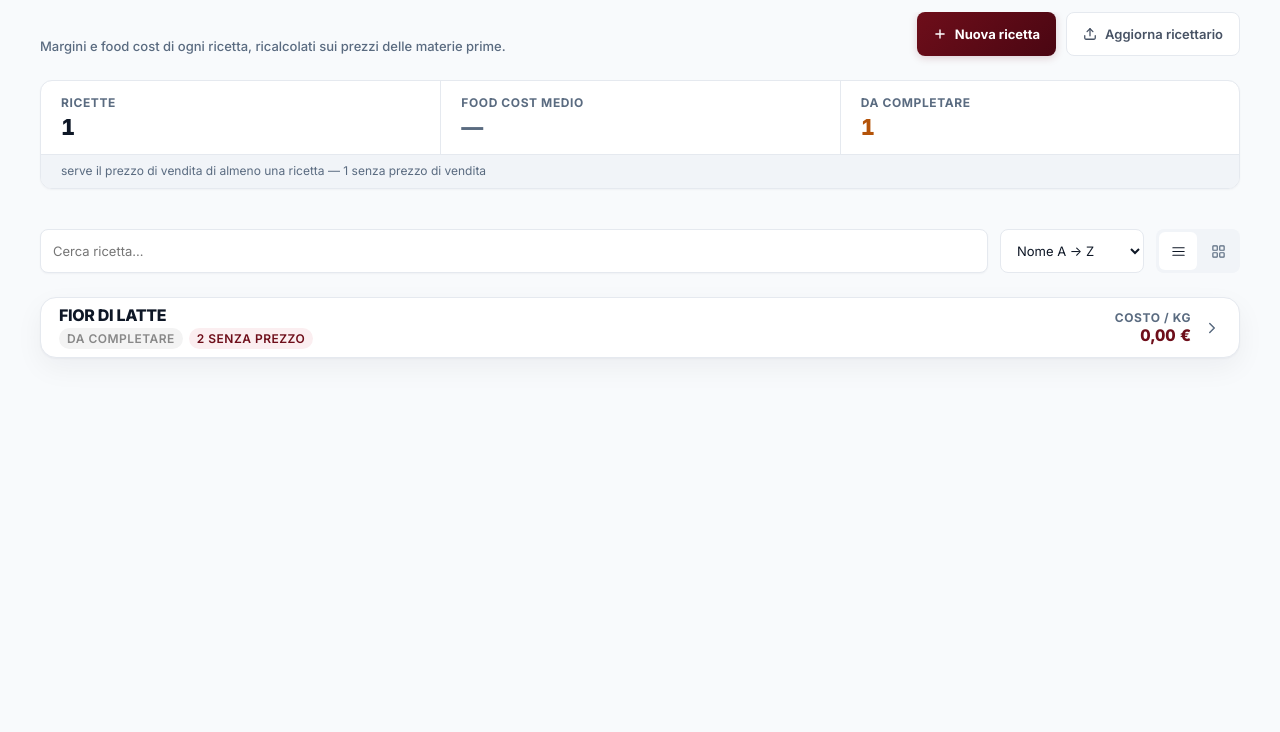
Test: I numeri non stanno più nell’intestazione › il pannello «Conto al kg» esiste ed è dove sono finiti
Click the button "FIOR DI LATTE Da completare 2 senza prezzo Costo / kg 0,00 €". click: (113, 315)
box: [40,297,1240,358]
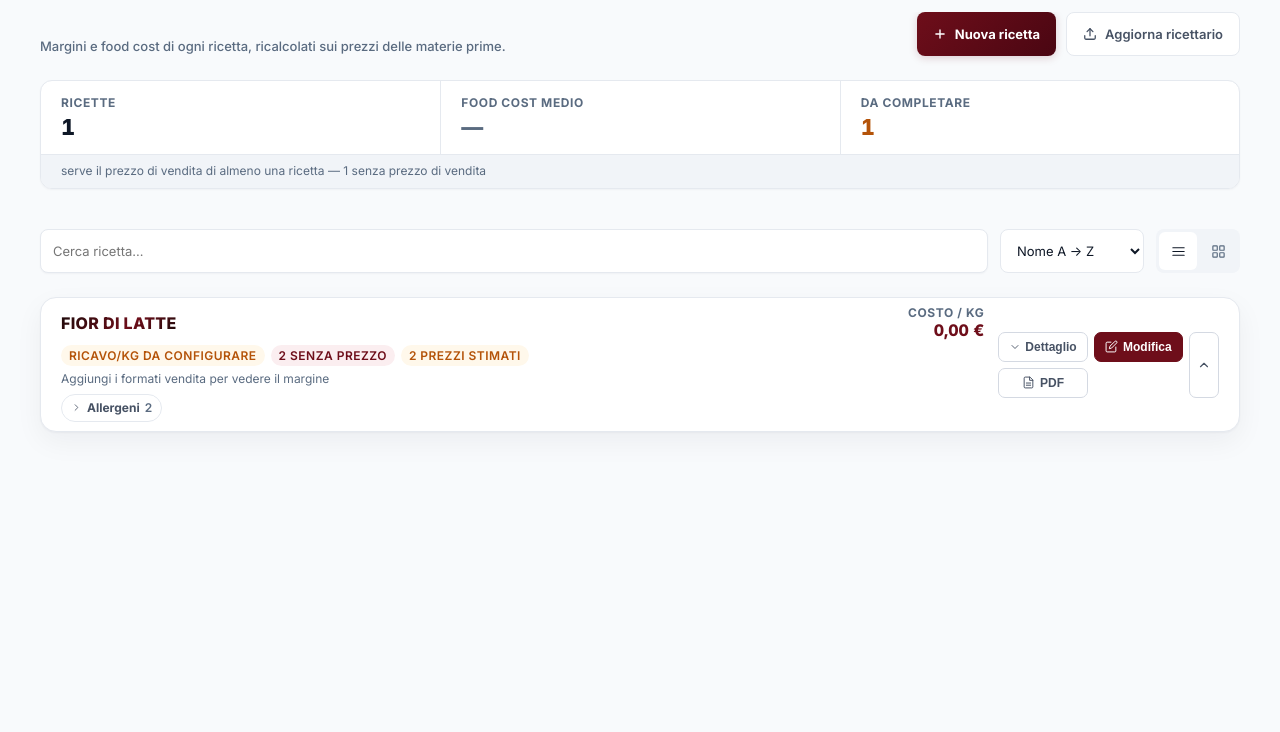
Click the button "Dettaglio". click: (1043, 347)
box: [998,332,1088,362]
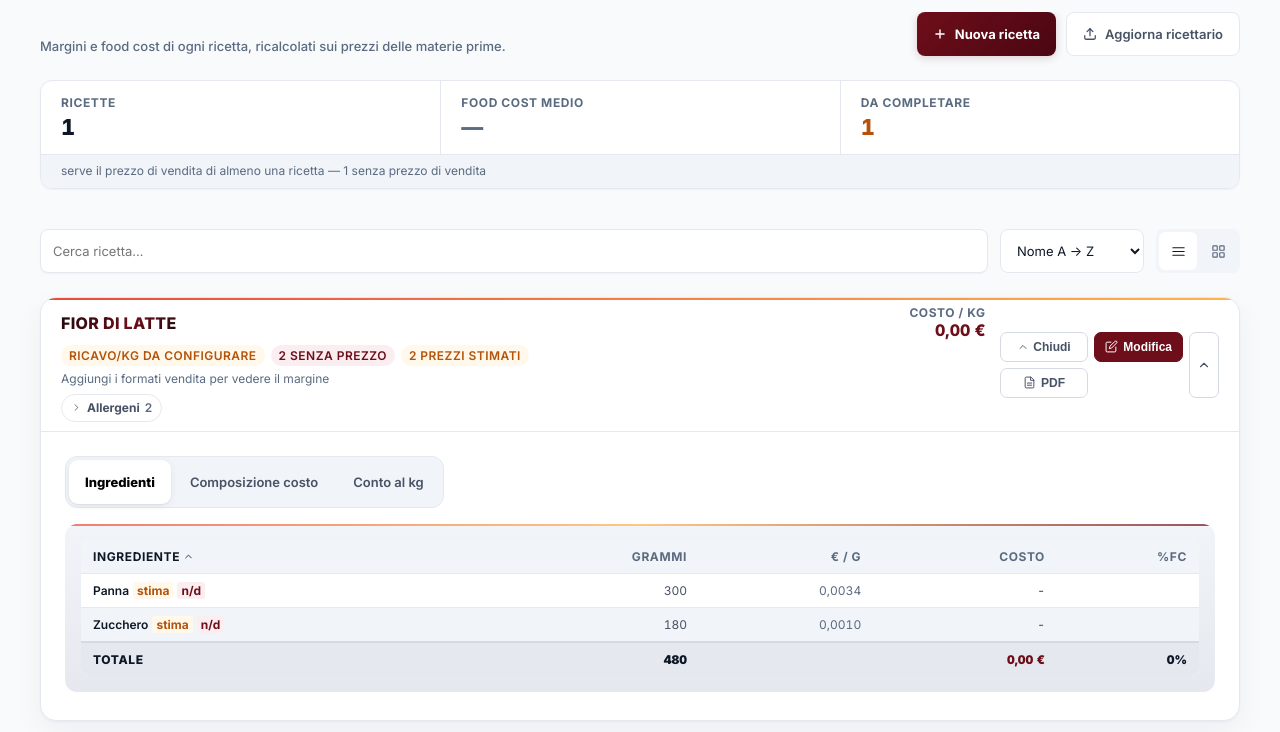
Click the button "Conto al kg". click: (389, 482)
box: [337,460,440,504]
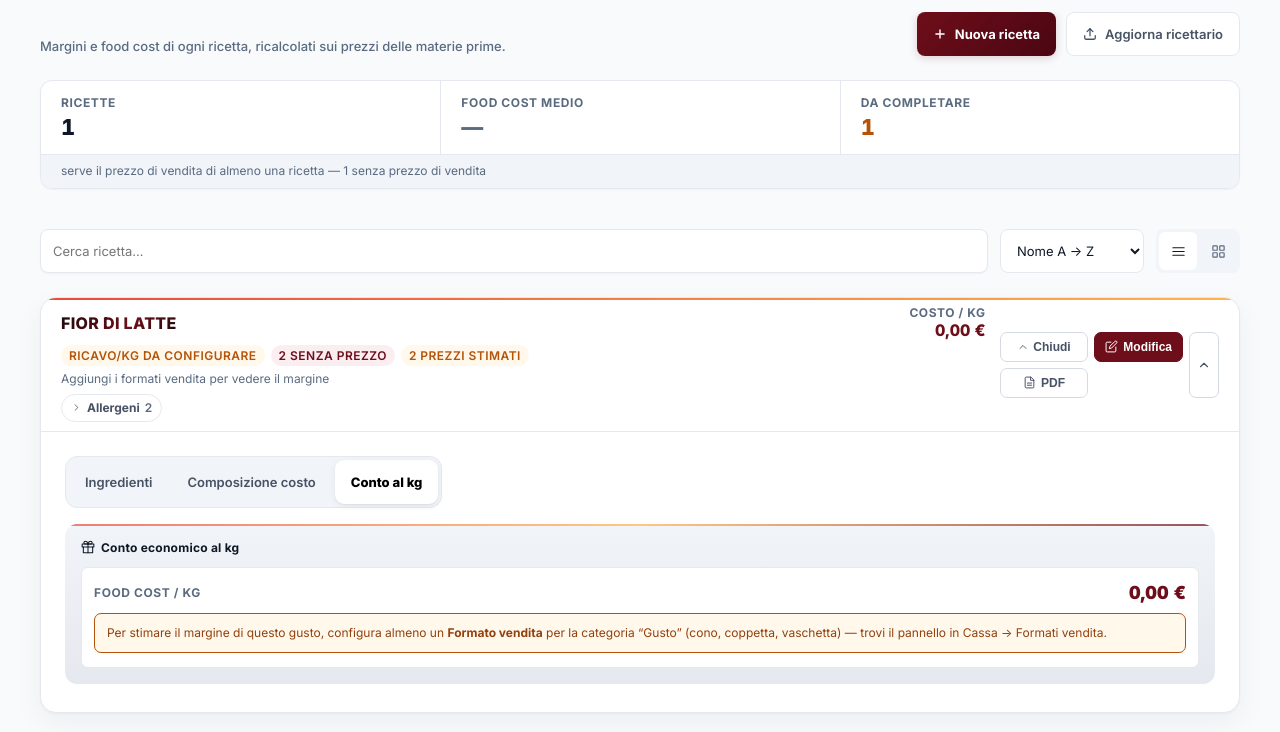
Expected: the text "Food cost / kg" is shown, [94,585,201,600]
